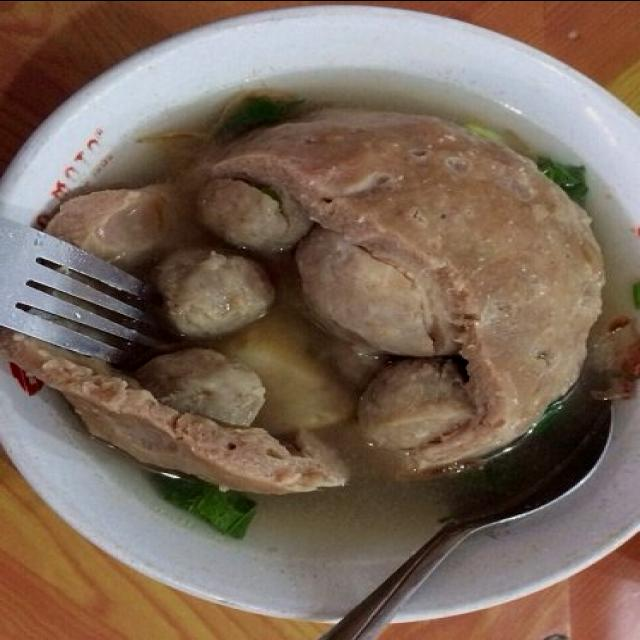bakso: (0, 109, 640, 557)
